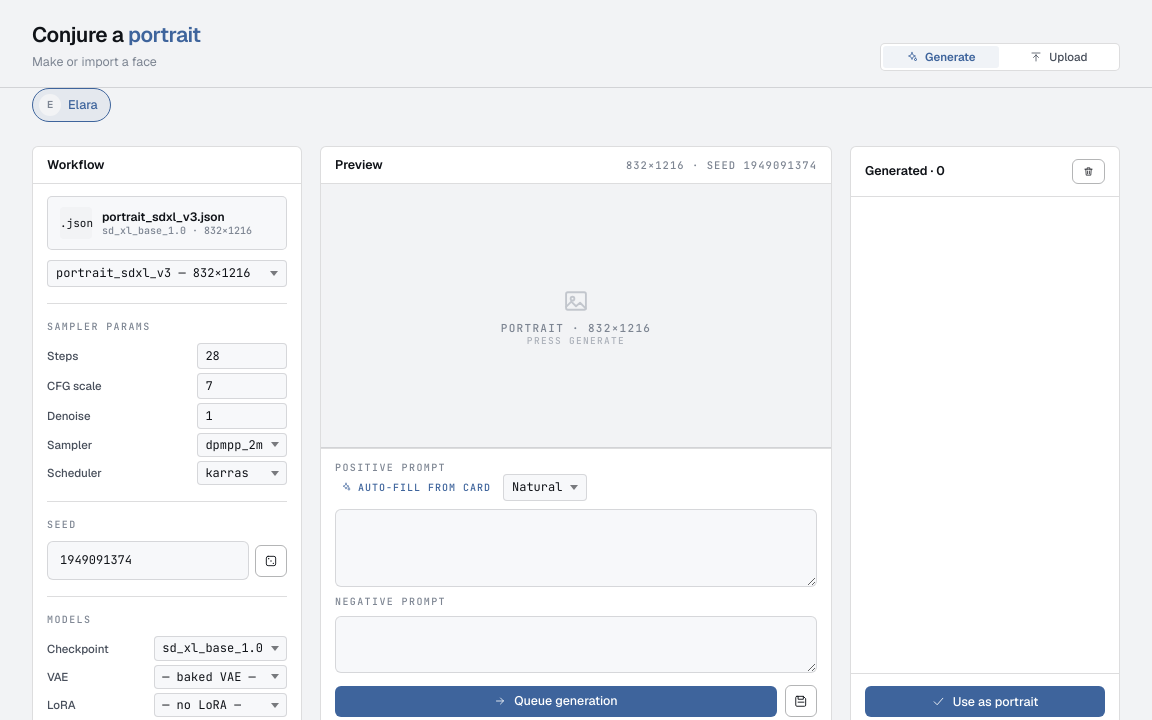
PortraitScreen › shows browse files in upload
This screenshot has width=1152, height=720.
Click the button "Upload" at (1059,57), box [1001,46,1117,68]
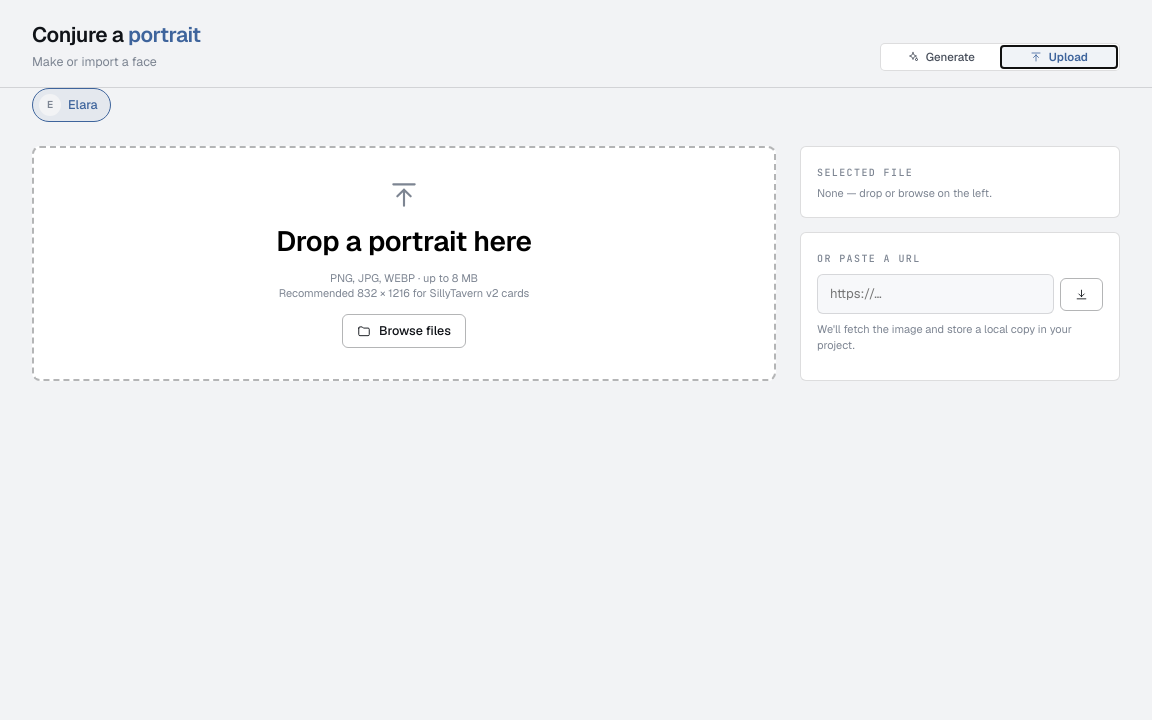
Expected: the button "Browse files" is shown, [342,314,466,348]
